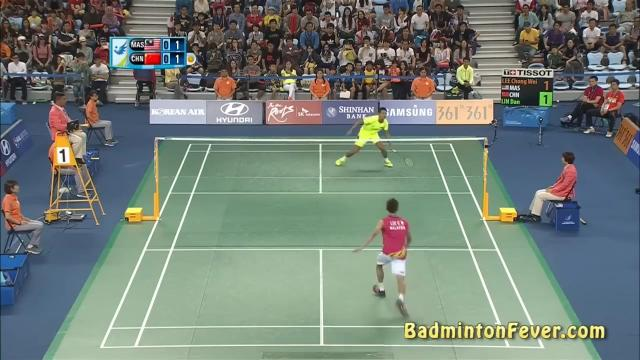Shuttlecock: (412, 103, 420, 109)
